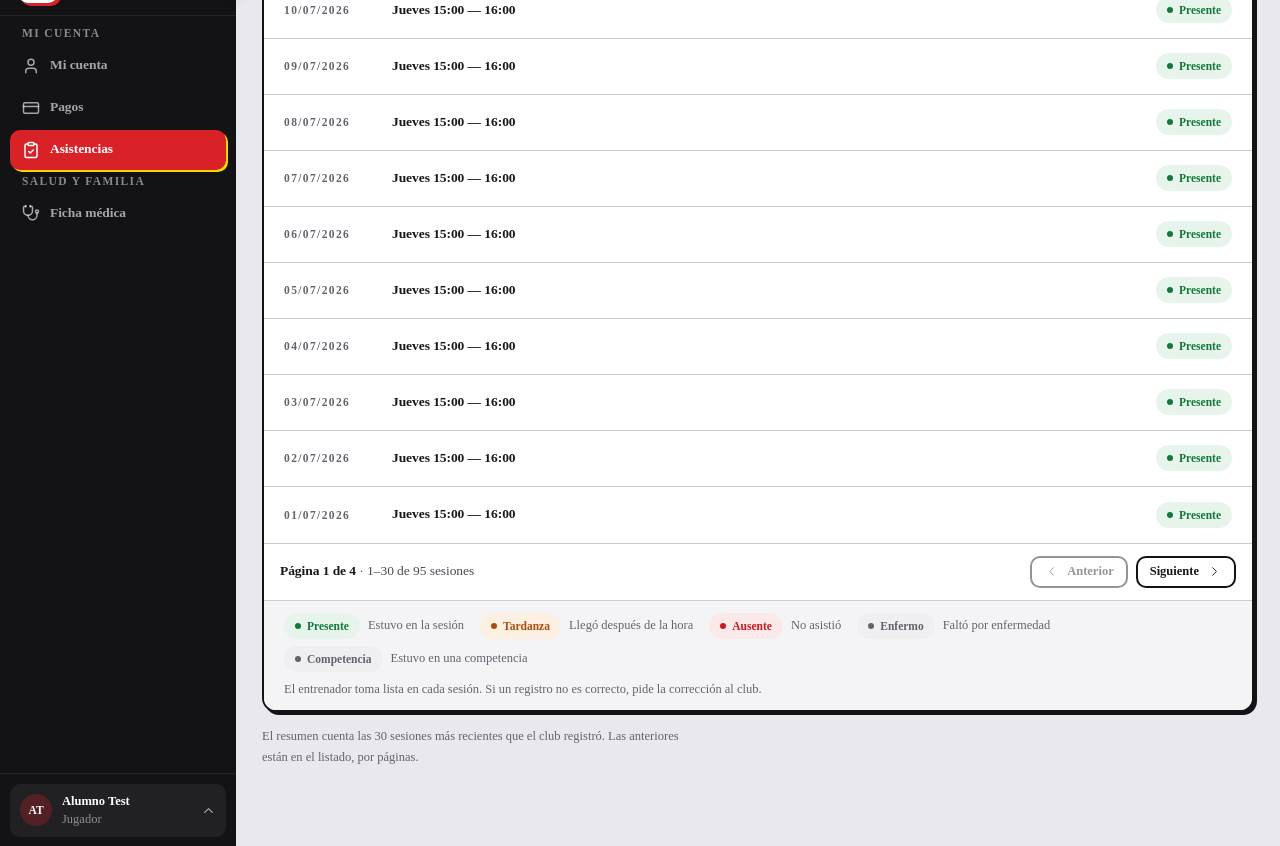
Test: StudentAttendancePage — older sessions › returns to the first page from the data already in hand, without another request
(page scrolled)
expect the text "Página 1 de 4" is shown: met, box [280,564,356,578]
Click the button with aria-label "Página siguiente". click: coordinates (1186, 572)
box: [1136,556,1236,588]
(page scrolled)
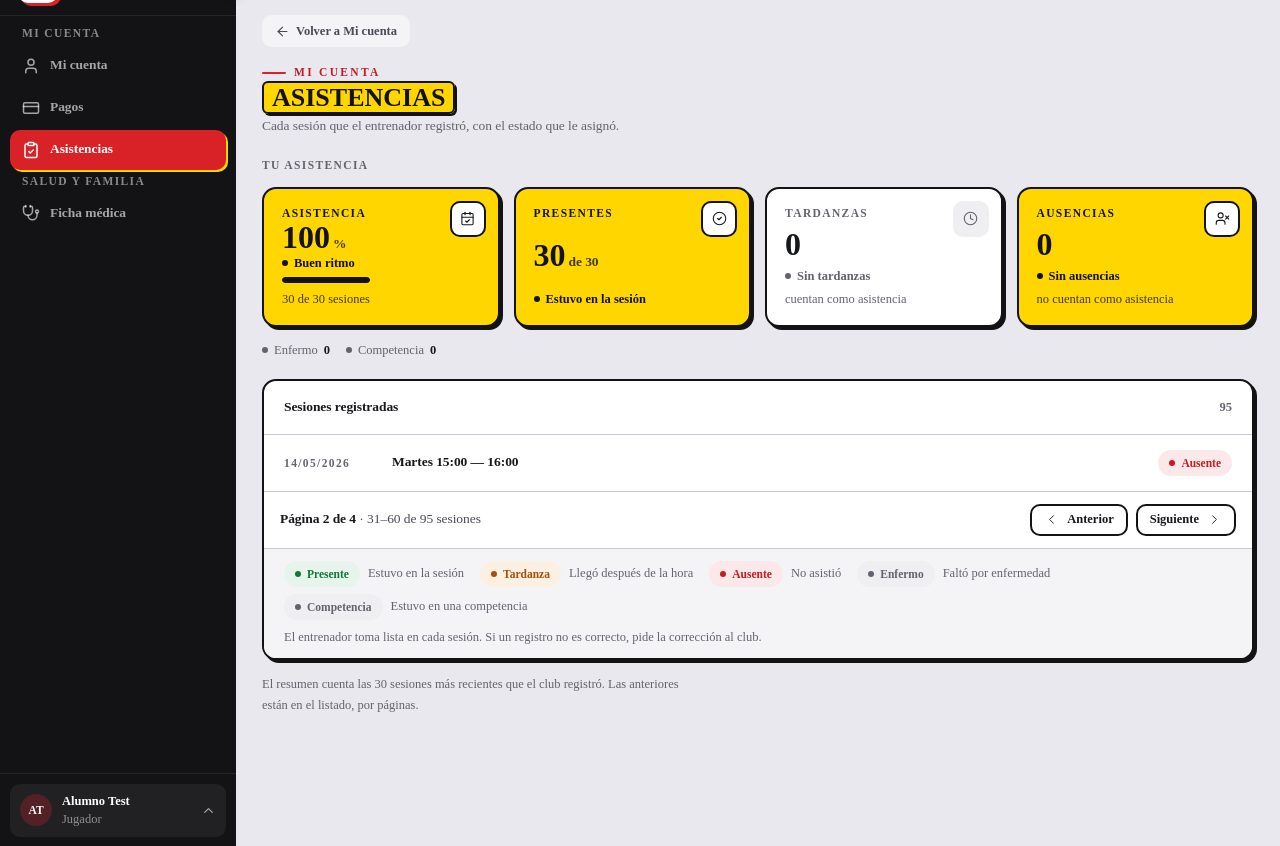
expect the text "14/05/2026" is shown: met, box [284,456,350,468]
Click the button with aria-label "Página anterior". click: coordinates (1079, 520)
box: [1030,504,1128,536]
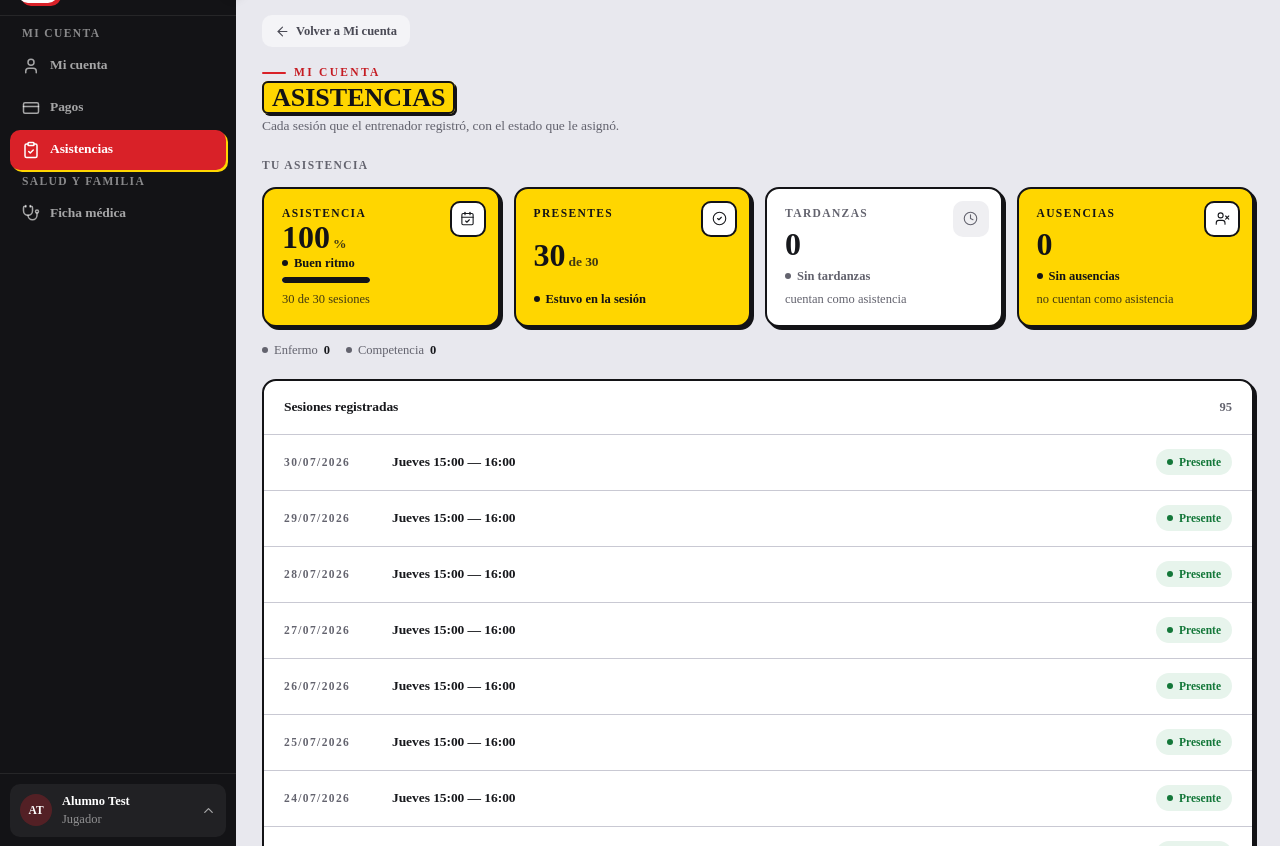
expect the text "30/07/2026" is shown: met, box [284,456,350,468]
